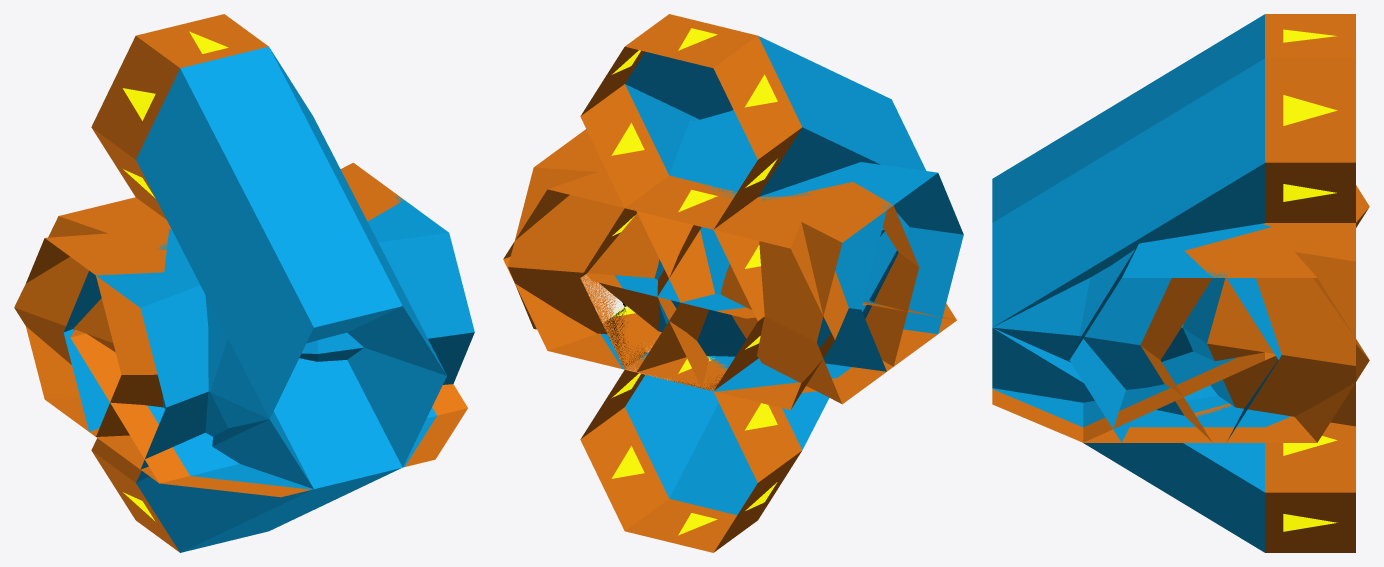
The model's file is SpecialStage.glb.
3 renders of one model, left to right at view 1: azimuth 30°, elevation 25°; view 2: azimuth 150°, elevation 25°; view 3: azimuth 270°, elevation 25°, orthographic. The views are drawn at different scales.
Parts seen in each view (by area): view 1: forwardUp-col, CurveLF-col, forwardDown-col, CurveFL-col, CurveRF-col, Floor_Slope-col, Floor1-col, CurveFR-col; view 2: forwardUp-col, forwardDown-col, CurveRF-col, CurveFL-col, CurveFR-col, forward-col, CurveLF-col, Floor1-col, forward_Pit1-col, Floor_Slope-col, Forward.Flag-col; view 3: forwardUp-col, forwardDown-col, CurveFR-col, CurveRF-col, Floor1-col, CurveLF-col, Floor_Slope-col, forward-col.
Part boxes in pixels (<box>): forwardUp-col: <box>91,14,446,489</box>; CurveLF-col: <box>14,196,474,384</box>; forwardDown-col: <box>91,306,446,552</box>; CurveFL-col: <box>26,229,439,457</box>; CurveRF-col: <box>63,270,208,469</box>; Floor_Slope-col: <box>70,329,467,483</box>; Floor1-col: <box>70,401,467,497</box>; CurveFR-col: <box>272,162,446,463</box>; forwardUp-col: <box>580,14,926,229</box>; forwardDown-col: <box>580,354,829,552</box>; CurveRF-col: <box>503,155,963,372</box>; CurveFL-col: <box>720,164,919,404</box>; CurveFR-col: <box>508,107,923,334</box>; forward-col: <box>580,124,884,391</box>; CurveLF-col: <box>585,120,848,409</box>; Floor1-col: <box>578,303,956,399</box>; forward_Pit1-col: <box>670,124,757,191</box>; Floor_Slope-col: <box>587,273,954,319</box>; Forward.Flag-col: <box>582,214,721,390</box>; forwardUp-col: <box>992,14,1355,327</box>; forwardDown-col: <box>992,328,1355,552</box>; CurveFR-col: <box>992,224,1369,442</box>; CurveRF-col: <box>1183,223,1355,426</box>; Floor1-col: <box>992,388,1302,442</box>; CurveLF-col: <box>1069,242,1281,442</box>; Floor_Slope-col: <box>1083,351,1275,442</box>; forward-col: <box>1160,325,1192,361</box>.
Bounding box in the file's own units: 21.5 × 30 × 20.75.
Materials: 7 (1 with a texture image).
